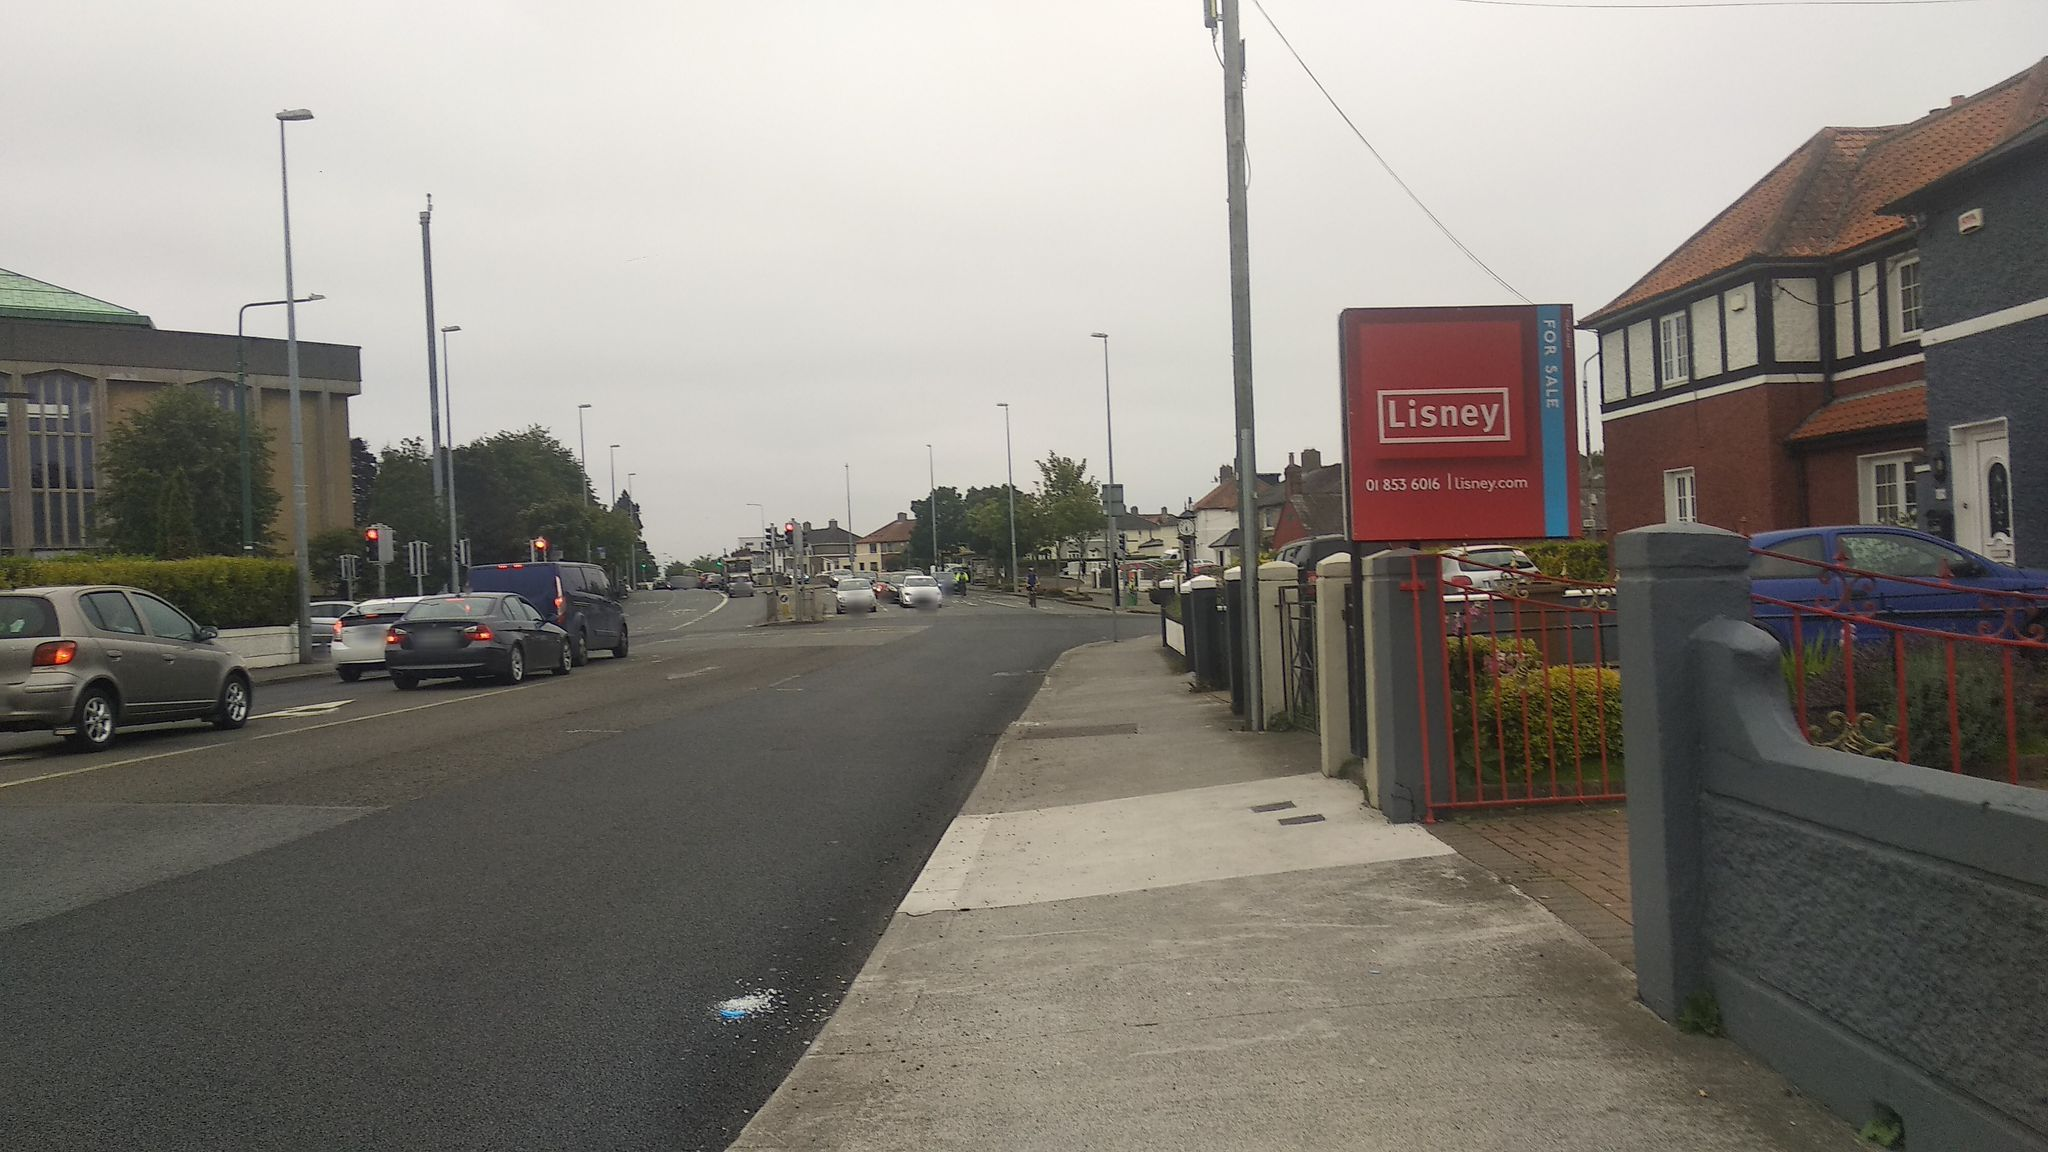property sign: (1310, 266, 1611, 564)
